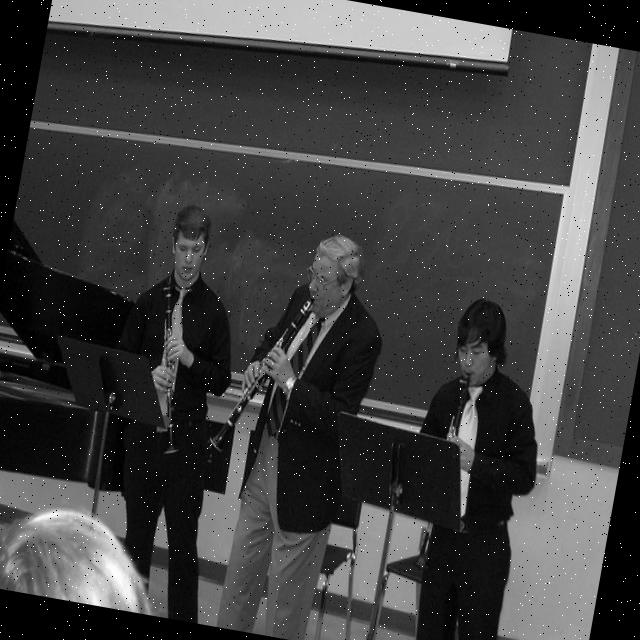clarinet: (199, 280, 316, 482), (131, 276, 211, 462), (410, 370, 473, 574)
